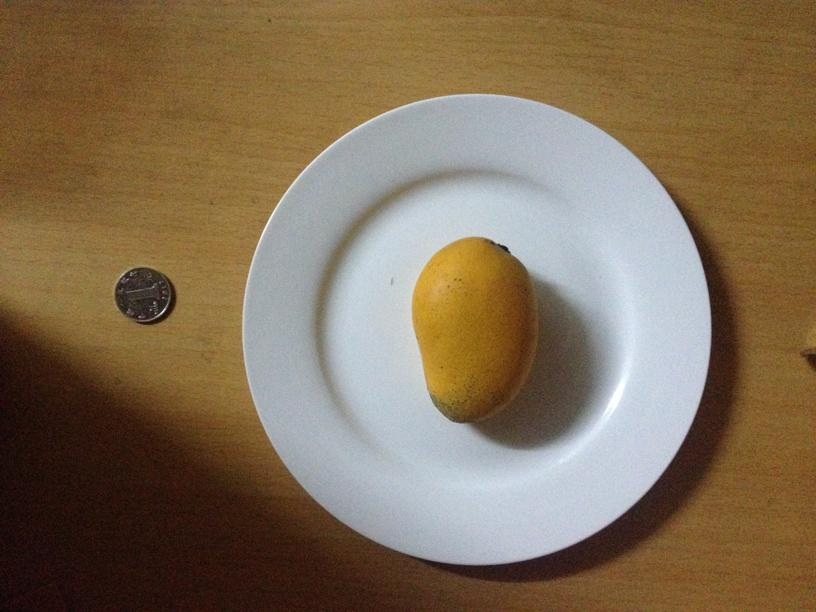coin: (114, 265, 173, 324)
mango: (407, 236, 536, 425)
